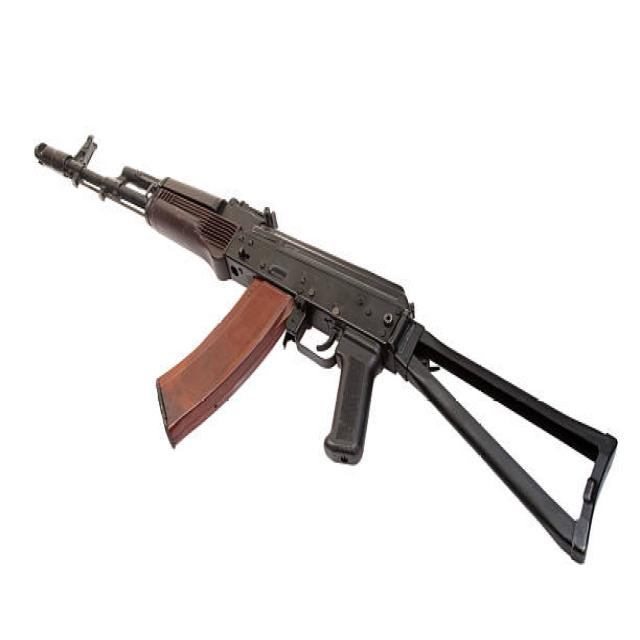rifle: (29, 123, 620, 570)
